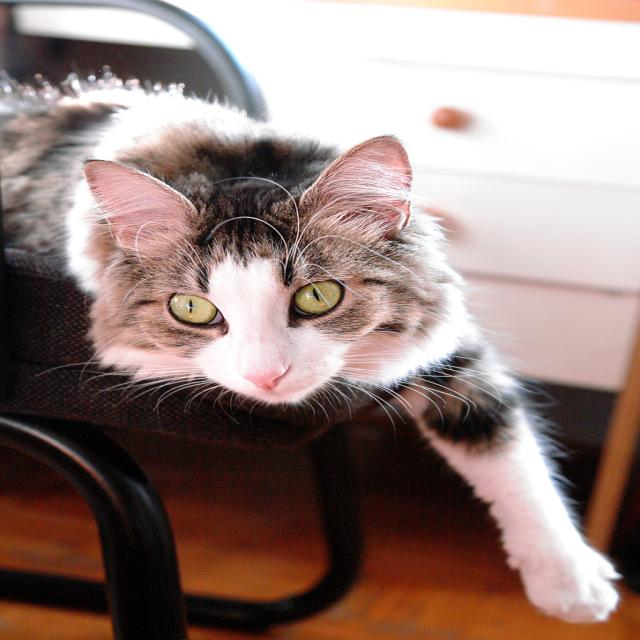cat: (2, 88, 624, 626)
